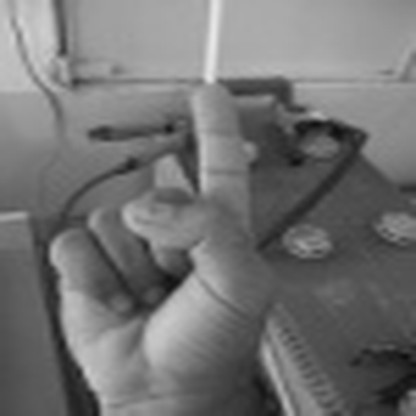d: (43, 78, 253, 416)
